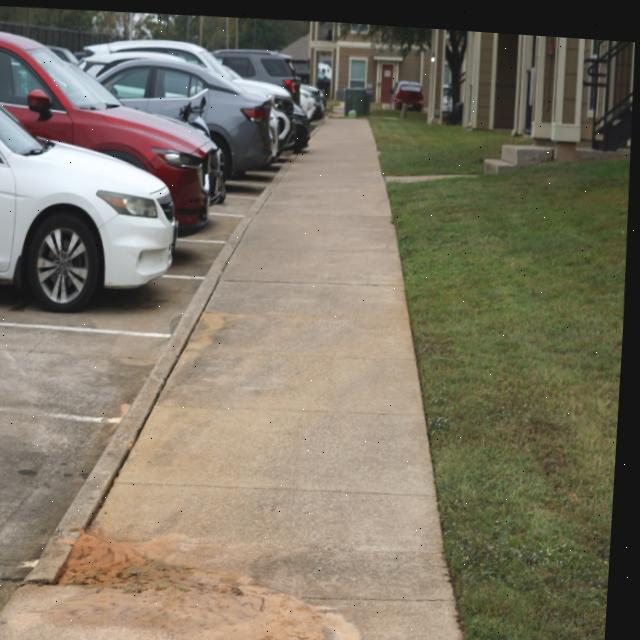Automobile: (0, 31, 219, 231), (0, 103, 178, 311), (79, 38, 275, 174), (84, 36, 242, 78), (216, 47, 301, 87), (232, 67, 292, 95), (393, 74, 424, 111), (300, 79, 326, 117), (271, 103, 292, 149)
Obstacle: (345, 82, 372, 111)
Road: (0, 168, 275, 619)
Sidewalk: (0, 114, 472, 640)
